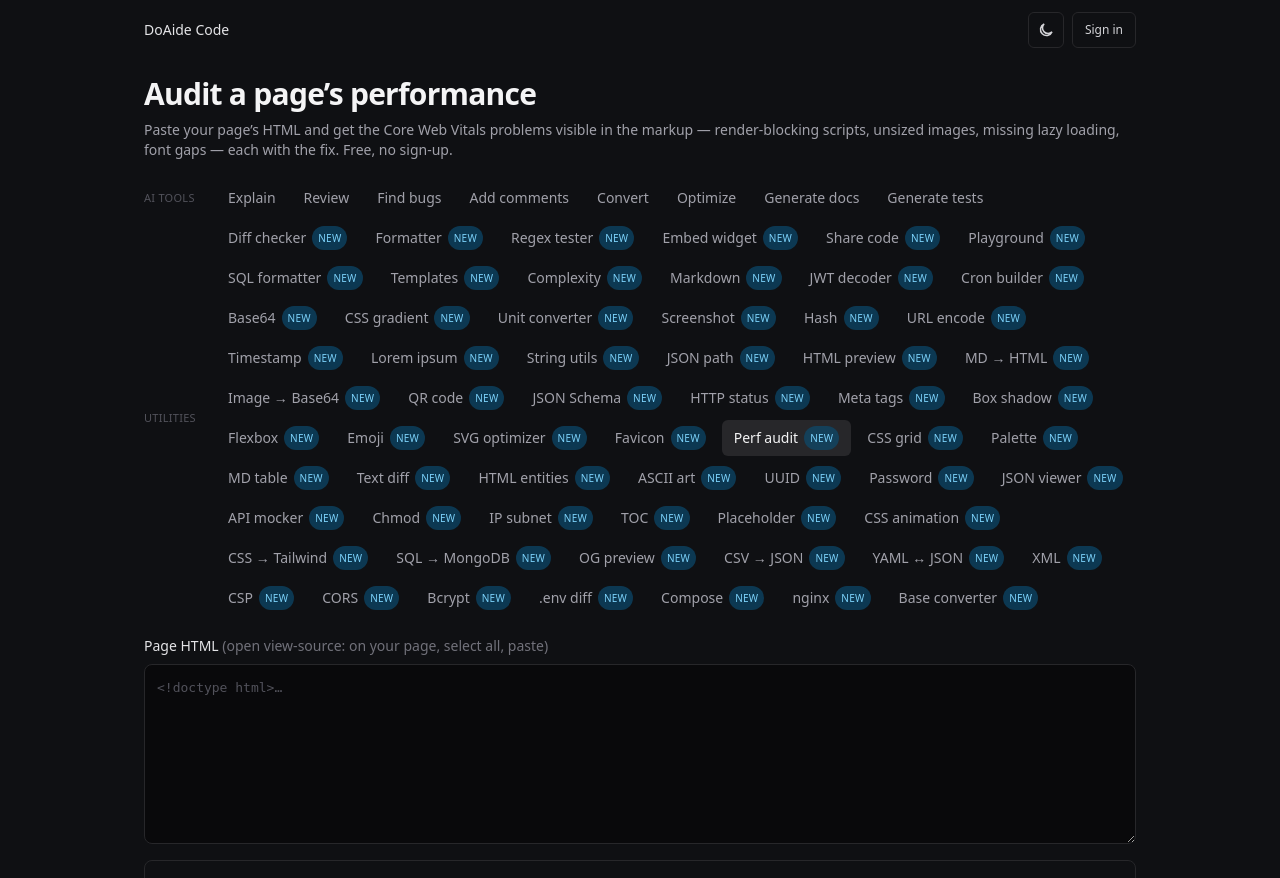
Test: PerfAuditPage › scores a clean page 100 with passed checks
In the text box with test id "perf-input": x=640, y=754 [144,664,1136,844], type "<html><head><meta charset=\"utf-8\"><meta name=\"viewport\" content=\"x\"><title>t</title></head><body><p>hi</p></body></html>"
(page scrolled)
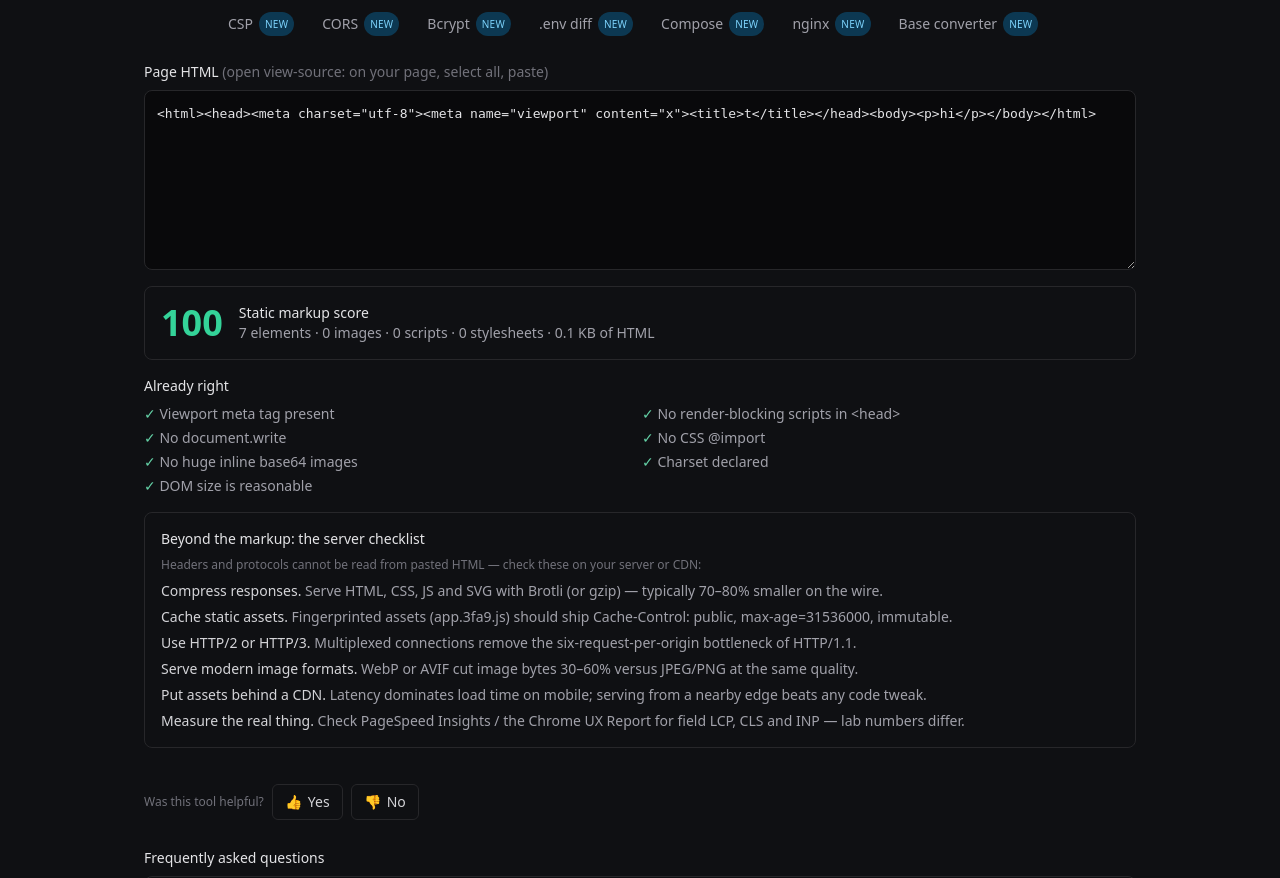
Expected: the text with test id "perf-score" reads "100", [161,298,223,347]
Expected: the list with test id "perf-passed" shows "Viewport meta tag present", [159,404,335,423]
